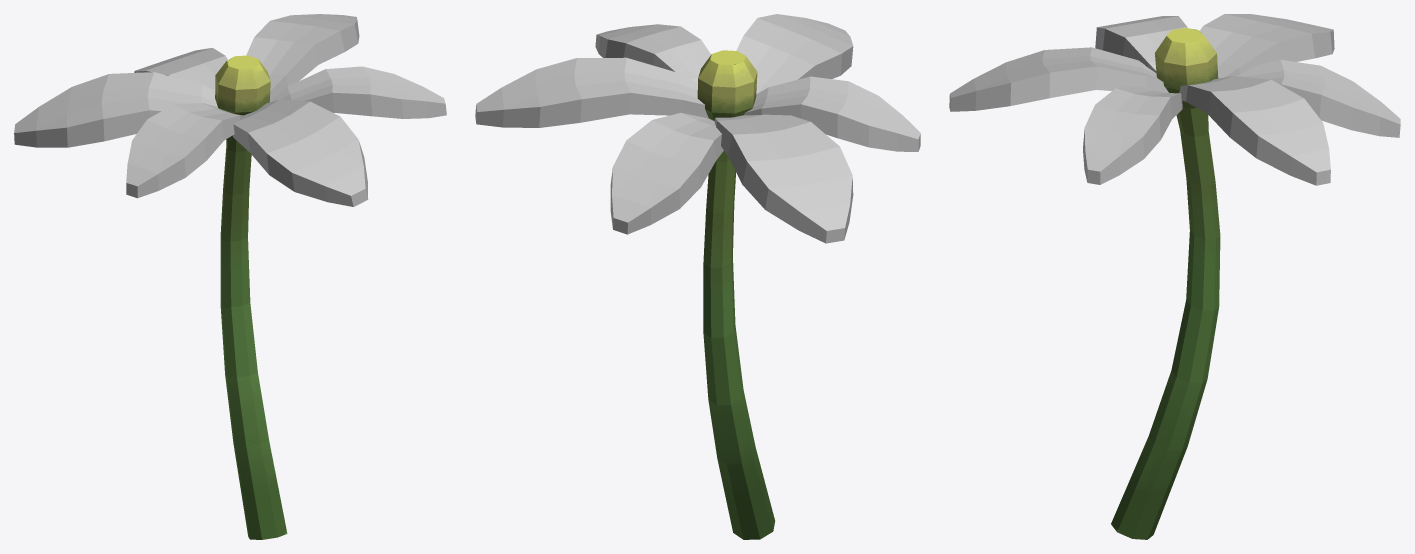
The model's file is flowerSmall_v2.fbx.
The picture shows the model from 3 angles, left to right: view 1: azimuth 30°, elevation 25°; view 2: azimuth 150°, elevation 25°; view 3: azimuth 270°, elevation 25°; orthographic projection. The views are drawn at different scales.
Visible parts, largest first — view 1: smallFlower_v2; view 2: smallFlower_v2; view 3: smallFlower_v2.
Part boxes in pixels (left/top/right/bottom): smallFlower_v2: left=14, top=14, right=446, bottom=539; smallFlower_v2: left=475, top=14, right=920, bottom=539; smallFlower_v2: left=949, top=14, right=1400, bottom=539.
Size of the model in its own units: 789 by 1007 by 826.
